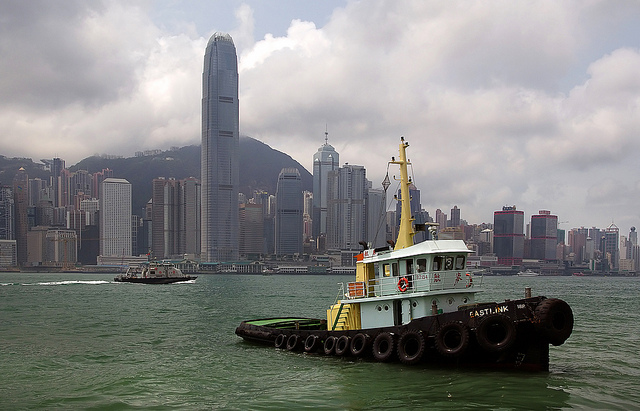boat: (113, 259, 198, 284)
tug_boat: (241, 135, 567, 378)
